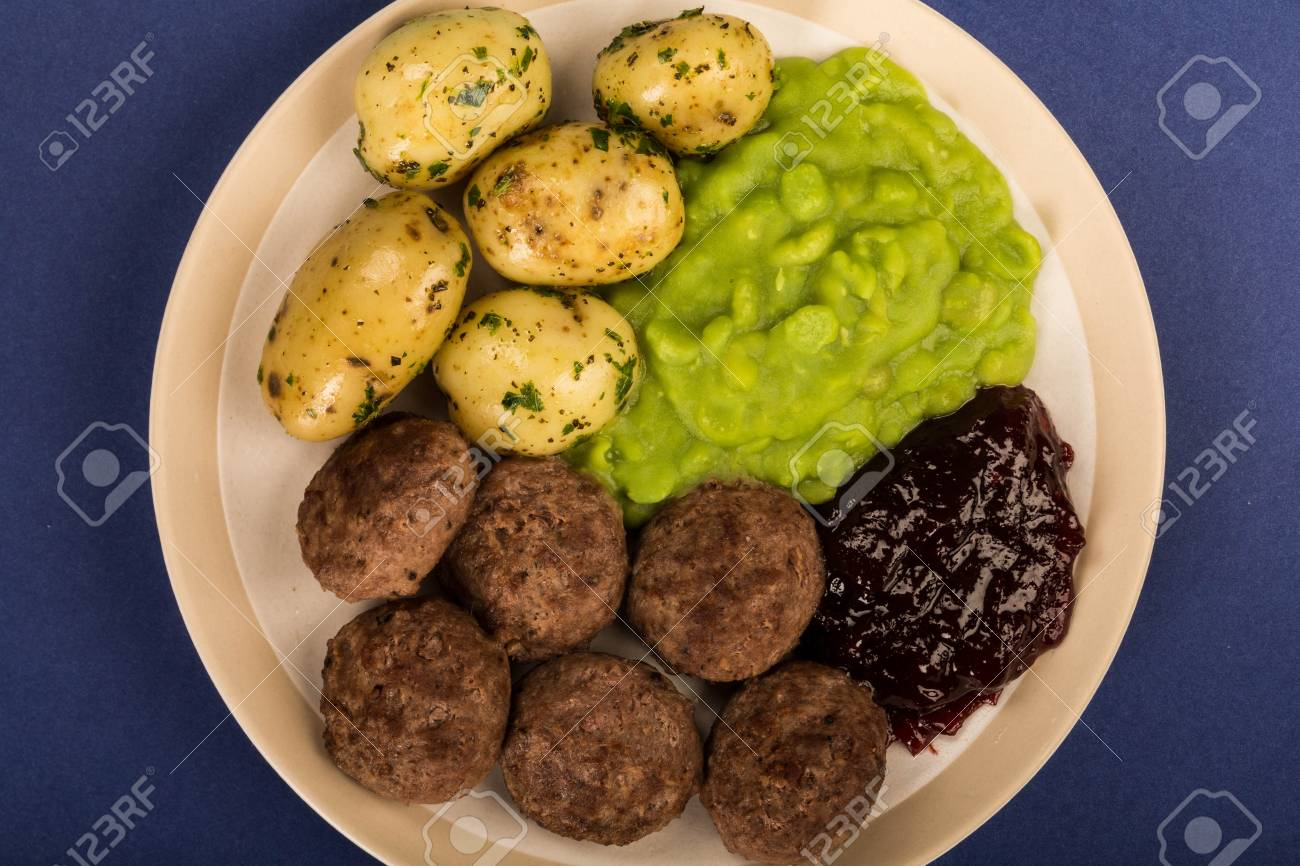boiled peas: (621, 148, 1015, 452)
boiled potatoes: (262, 210, 455, 440), (464, 127, 665, 288), (351, 12, 532, 188), (442, 296, 621, 453), (587, 15, 773, 132)
meatballs: (498, 661, 705, 843), (329, 607, 502, 801), (708, 688, 896, 858), (640, 488, 803, 657), (471, 462, 612, 654), (308, 440, 471, 600)
